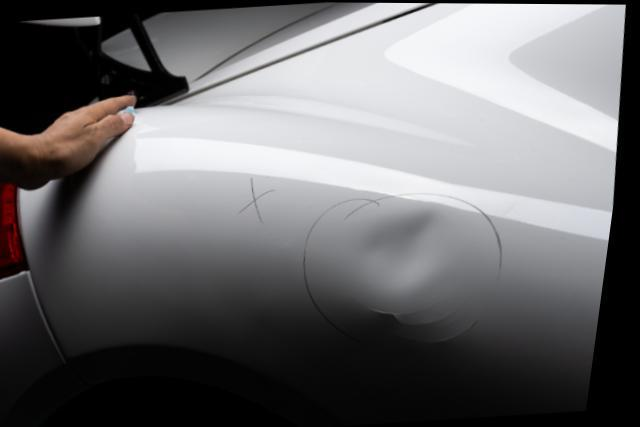dent: (363, 209, 464, 291)
